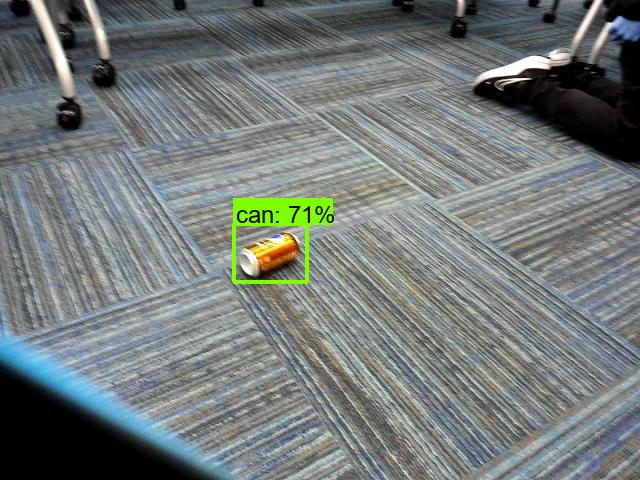can: (234, 223, 308, 281)
